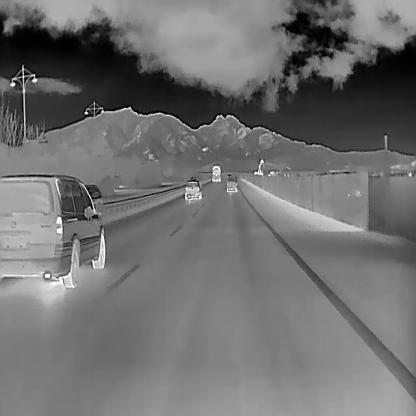car: (0, 173, 105, 288), (183, 178, 201, 200), (85, 183, 102, 202), (211, 163, 222, 183), (226, 174, 237, 192), (189, 175, 196, 180)
